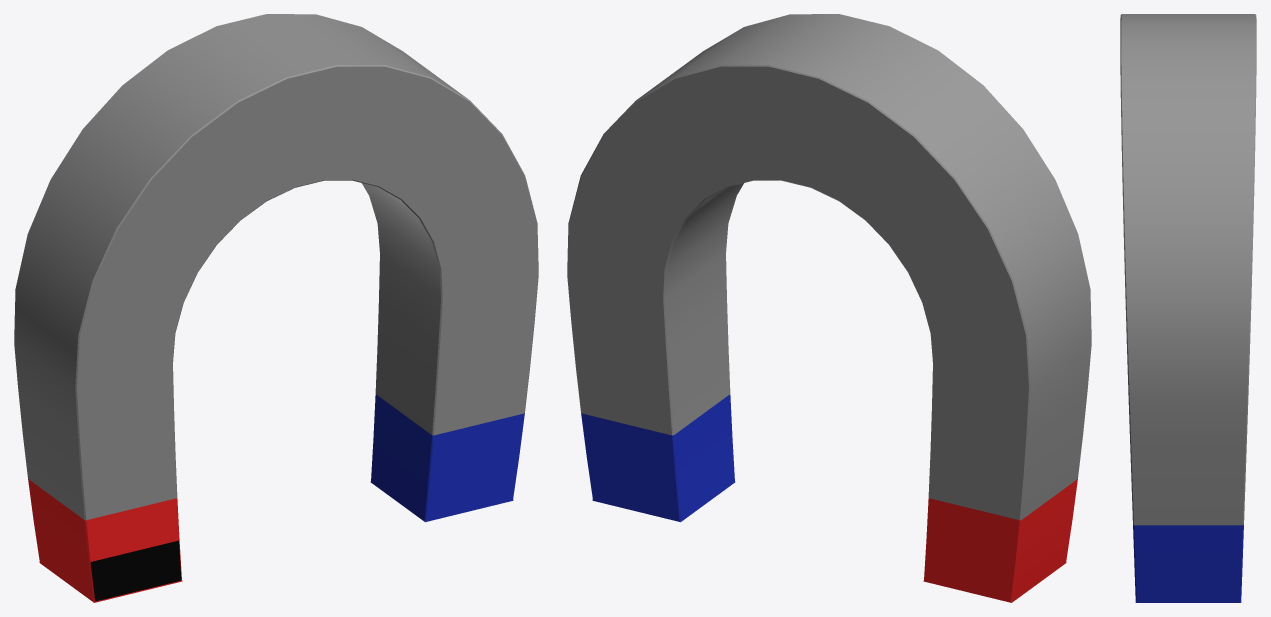
Rendered from Magnet.FBX.
3 renders of one model, left to right at view 1: azimuth 30°, elevation 25°; view 2: azimuth 150°, elevation 25°; view 3: azimuth 270°, elevation 25°, orthographic. The views are drawn at different scales.
Parts seen in each view (by area): view 1: Box069; view 2: Box069; view 3: Box069.
Boxes of the visible parts, x1,y1,x2,y2 form: Box069: [14, 14, 538, 602]; Box069: [567, 14, 1091, 602]; Box069: [1120, 14, 1256, 602].
Bounding box in the file's own units: 1081 × 1084 × 287.
